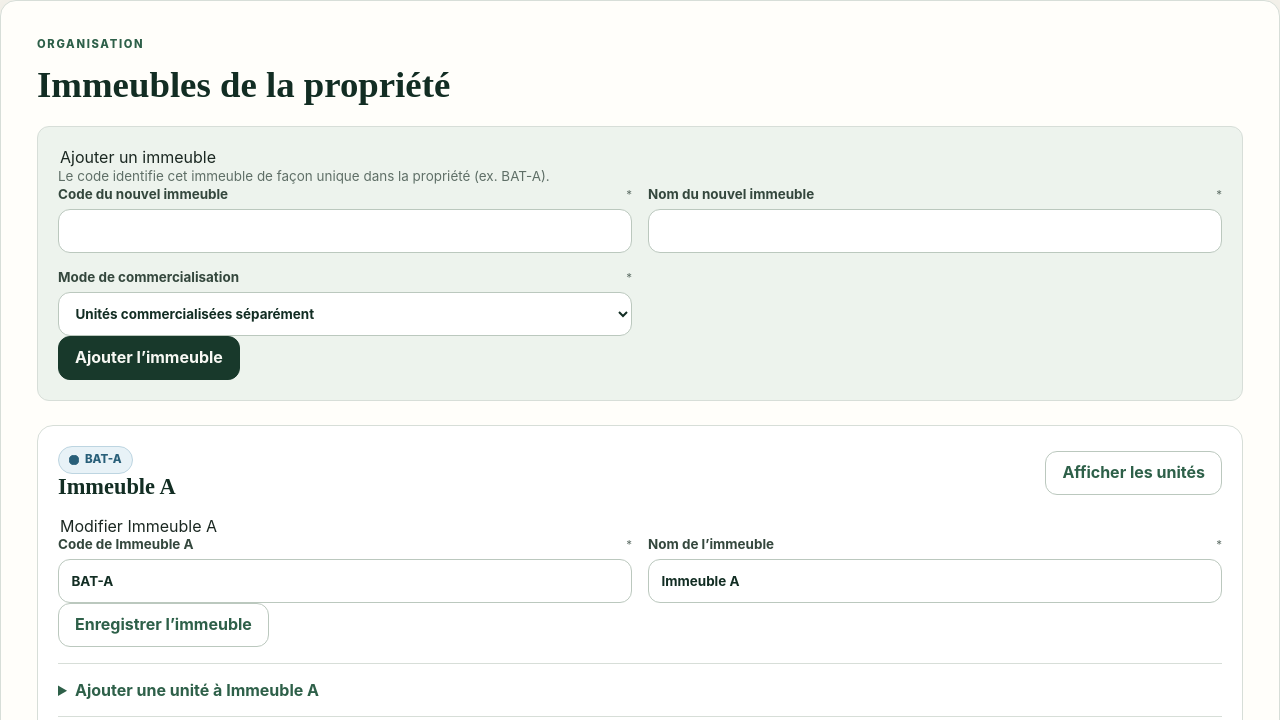
it: Composition du bien Web › crée et modifie un Building avec des contraintes françaises
The image size is (1280, 720).
Type "bat-b" into the field labelled "Code du nouvel immeuble" at (345, 231), box 58,209 -> 632,253
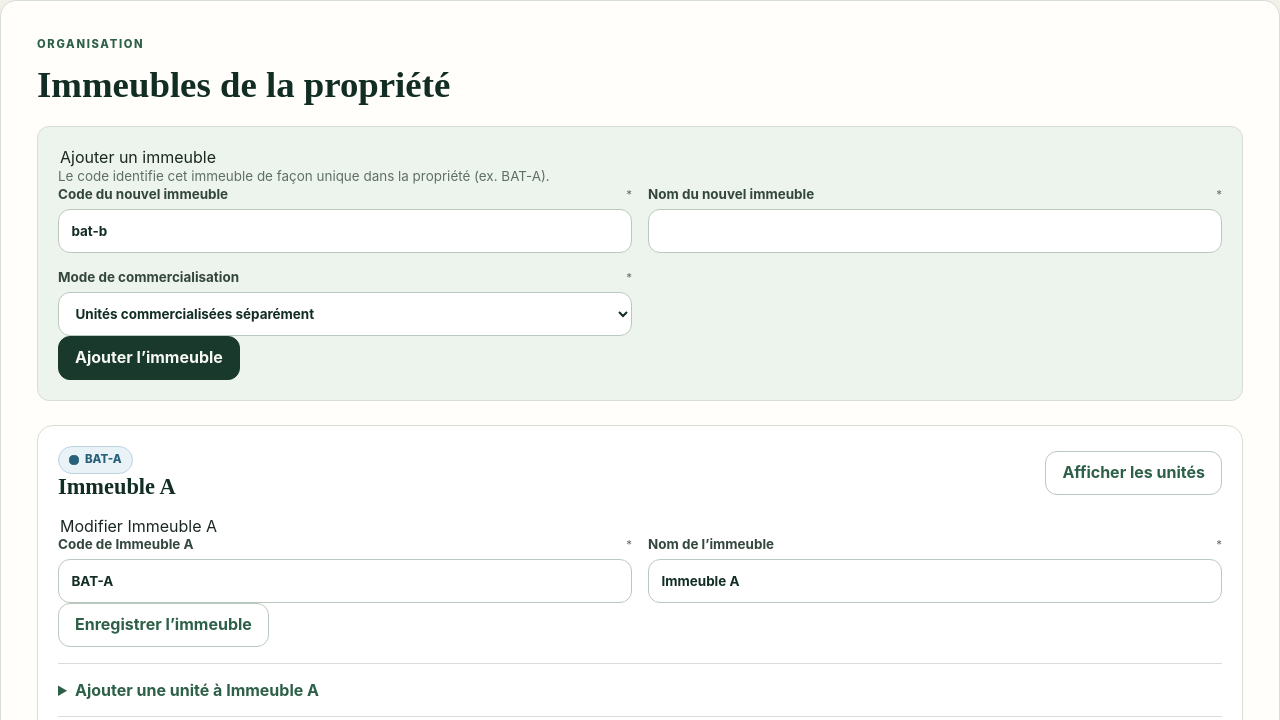
Type "Immeuble B" into the field labelled "Nom du nouvel immeuble" at (935, 231), box 648,209 -> 1222,253
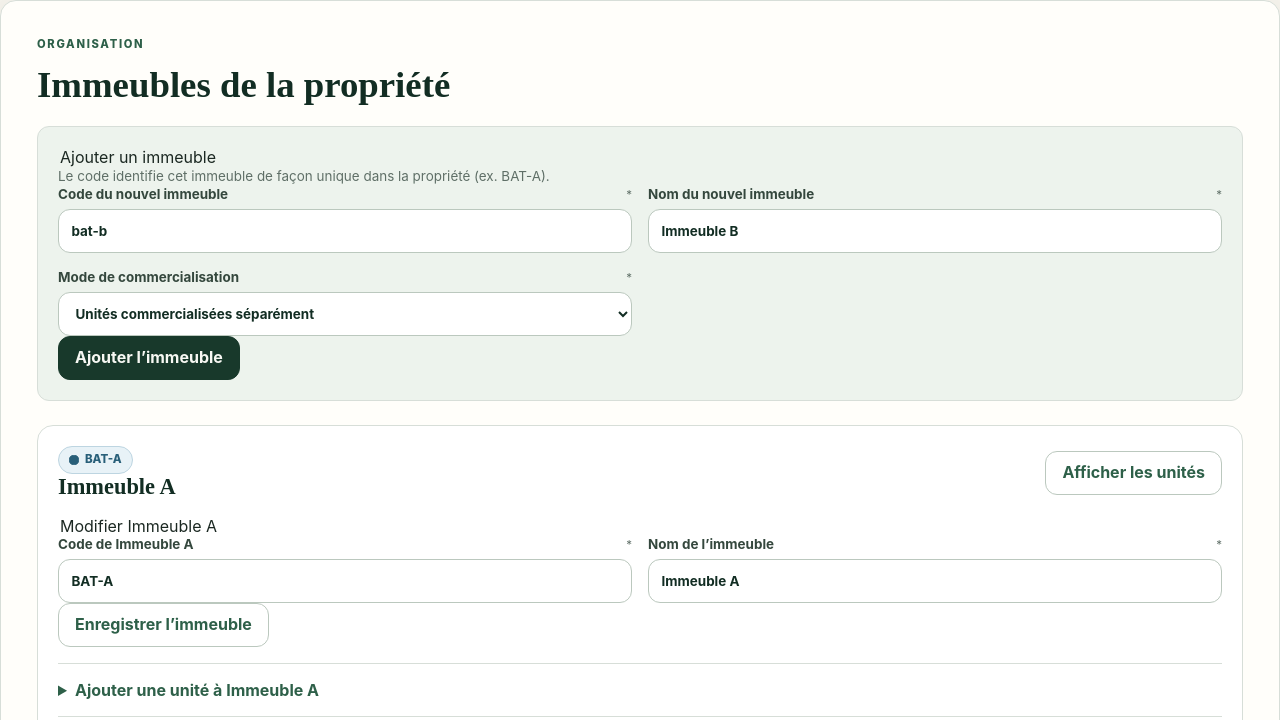
Click the button "Ajouter l’immeuble" at (149, 358), box 58,336 -> 240,380
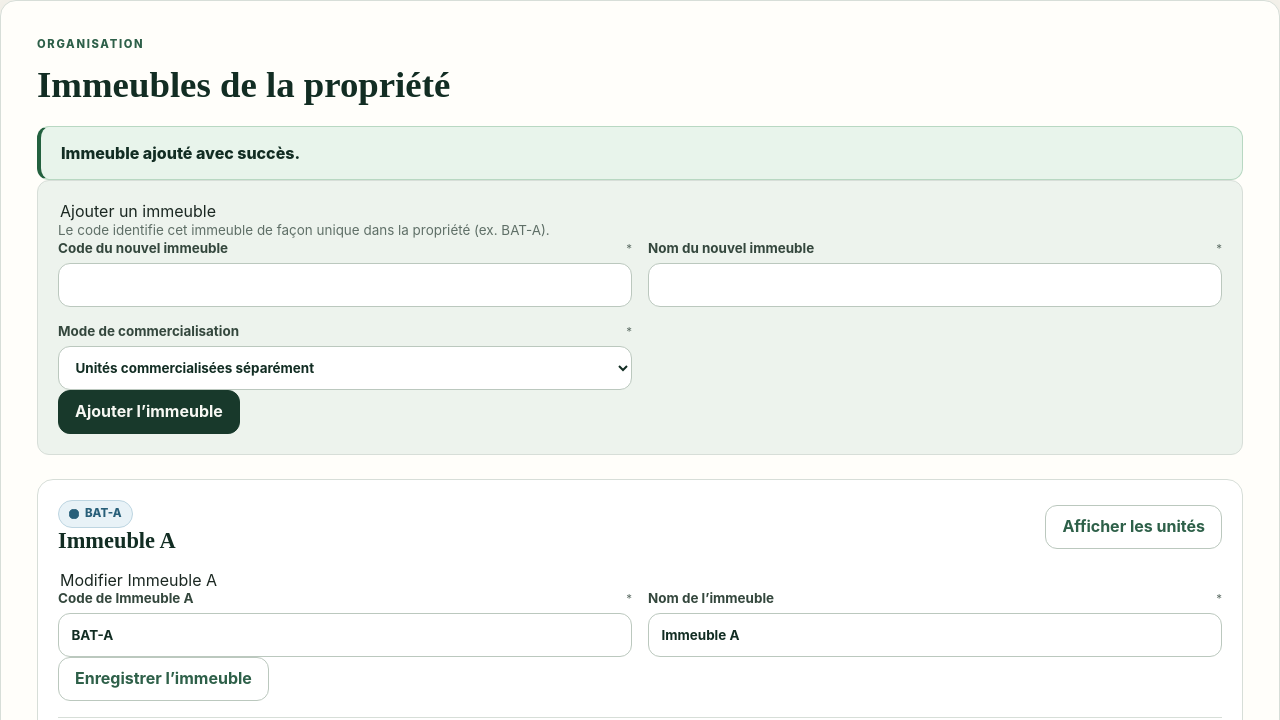
Now the heading "Immeuble ajouté avec succès." is shown, box 61,143 -> 300,163
Replace the text in the field labelled "Code de Immeuble A" with "BAT-Z" at (345, 635), box 58,613 -> 632,657
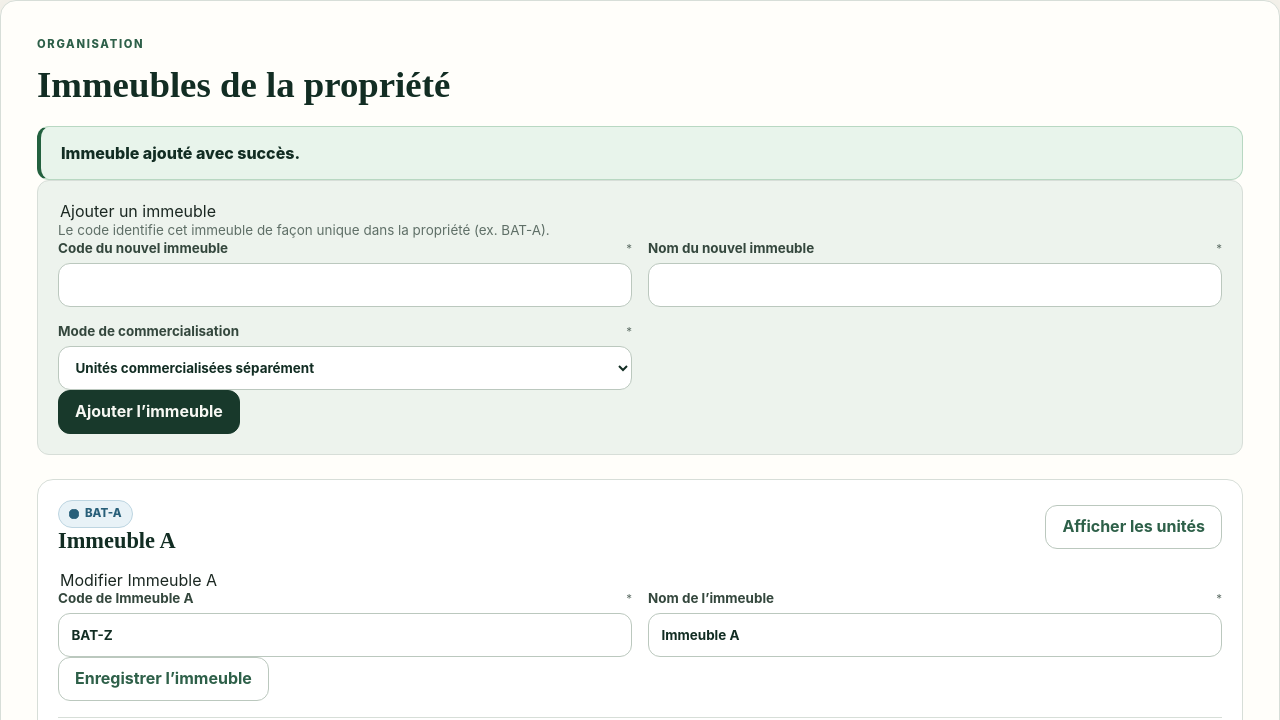
Replace the text in the field labelled "Nom de l’immeuble" with "Immeuble Z" at (935, 635), box 648,613 -> 1222,657
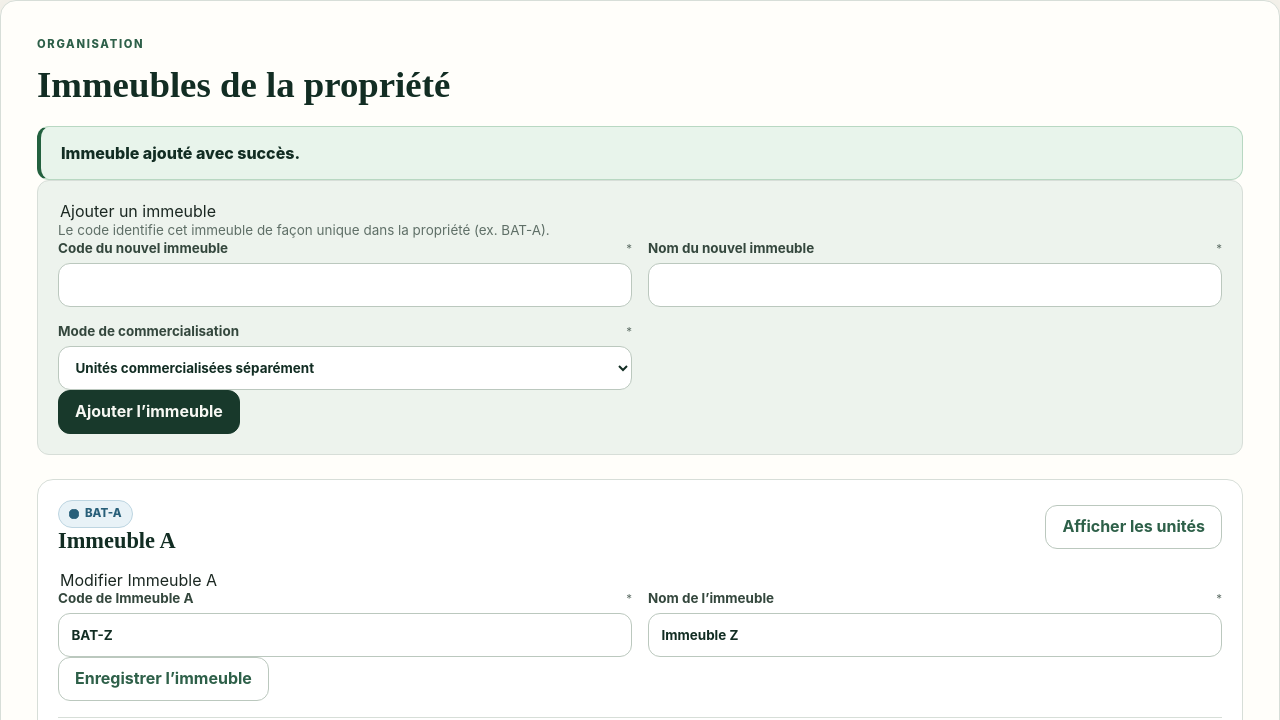
Click the button "Enregistrer l’immeuble" at (163, 679), box 58,657 -> 269,701
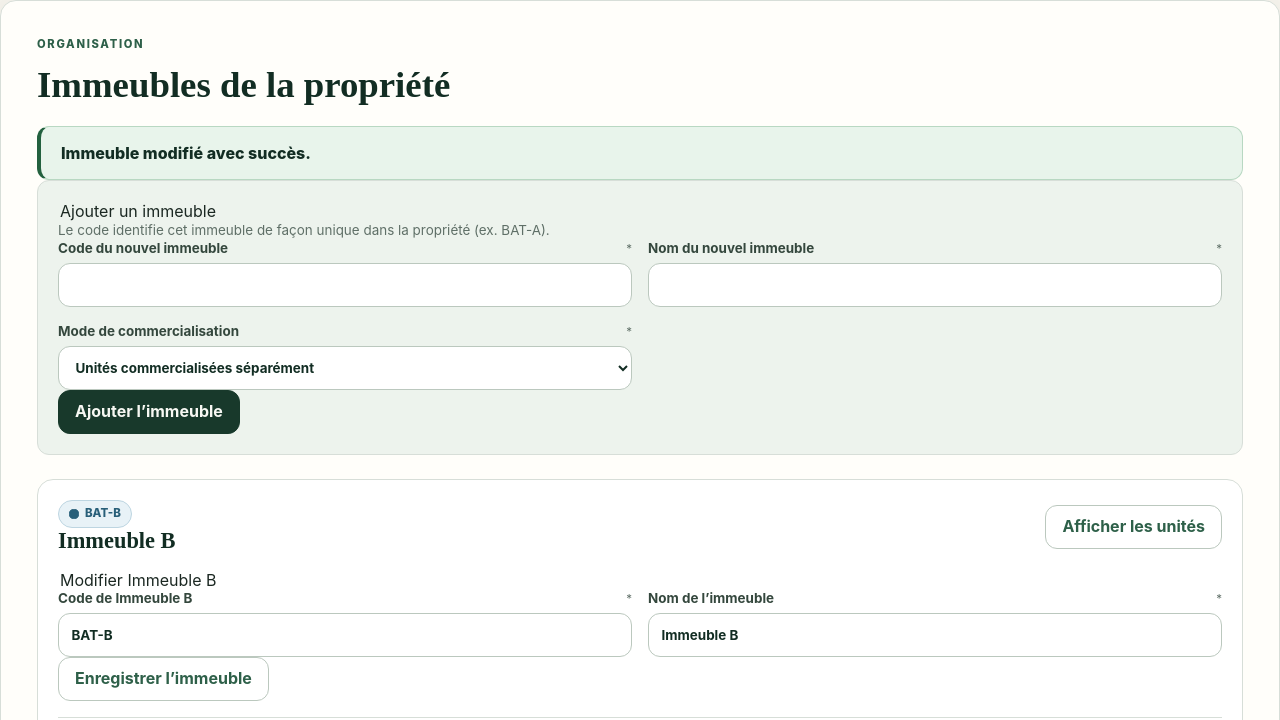
Now the heading "Immeuble modifié avec succès." is shown, box 61,143 -> 311,163
